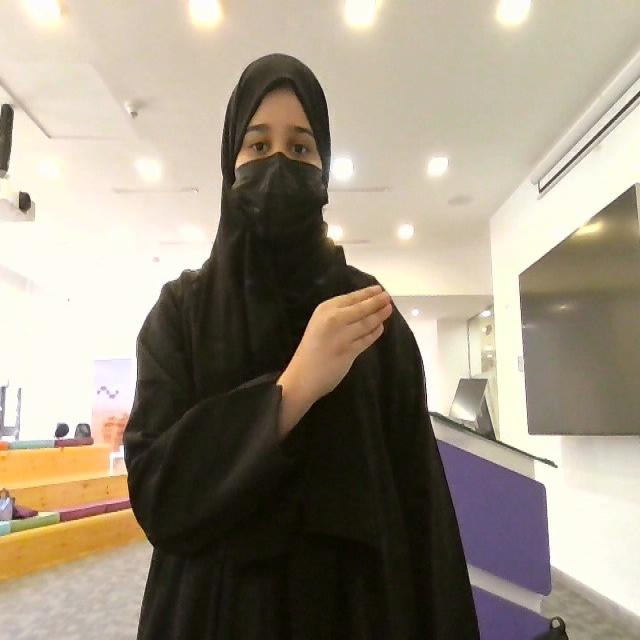result: (281, 278, 397, 416)
